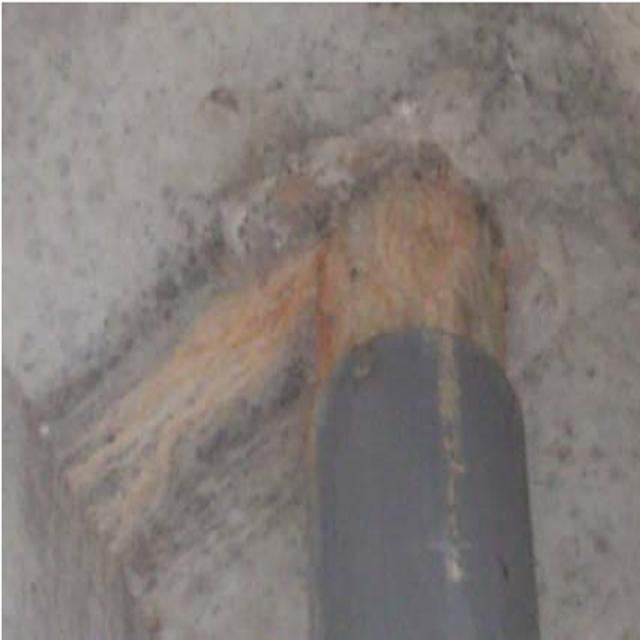freelime: (68, 287, 303, 529), (312, 159, 517, 340)
